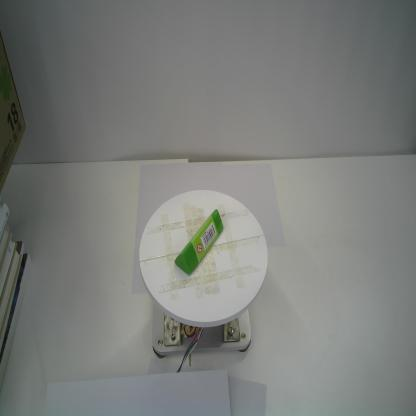Stationery: (174, 209, 223, 275)
